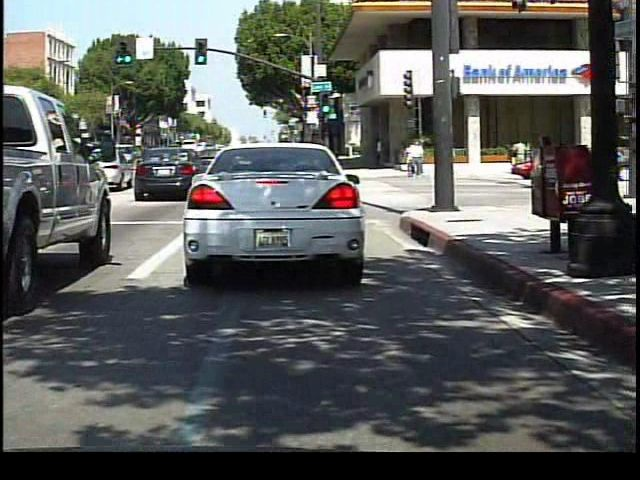person: (508, 136, 530, 176), (406, 136, 425, 179), (438, 136, 457, 174)
